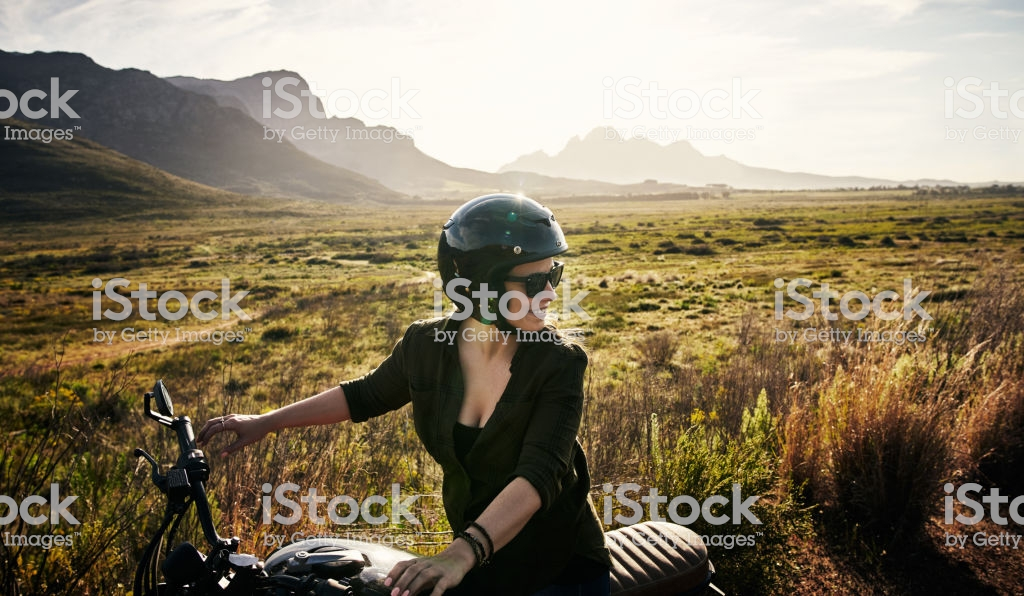helmet: (443, 191, 563, 284)
